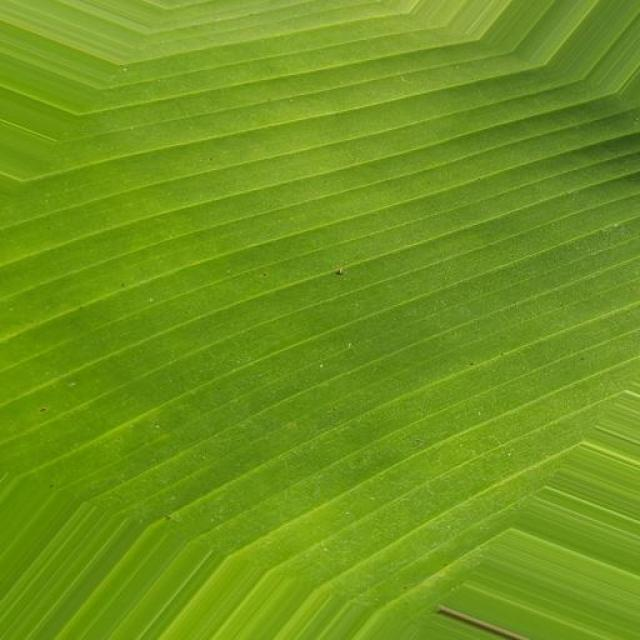Black_leaf_spot: (19, 9, 627, 601)
